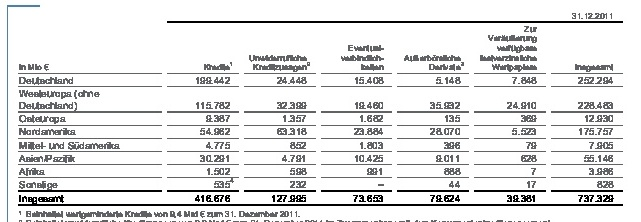table: (0, 0, 641, 222)
